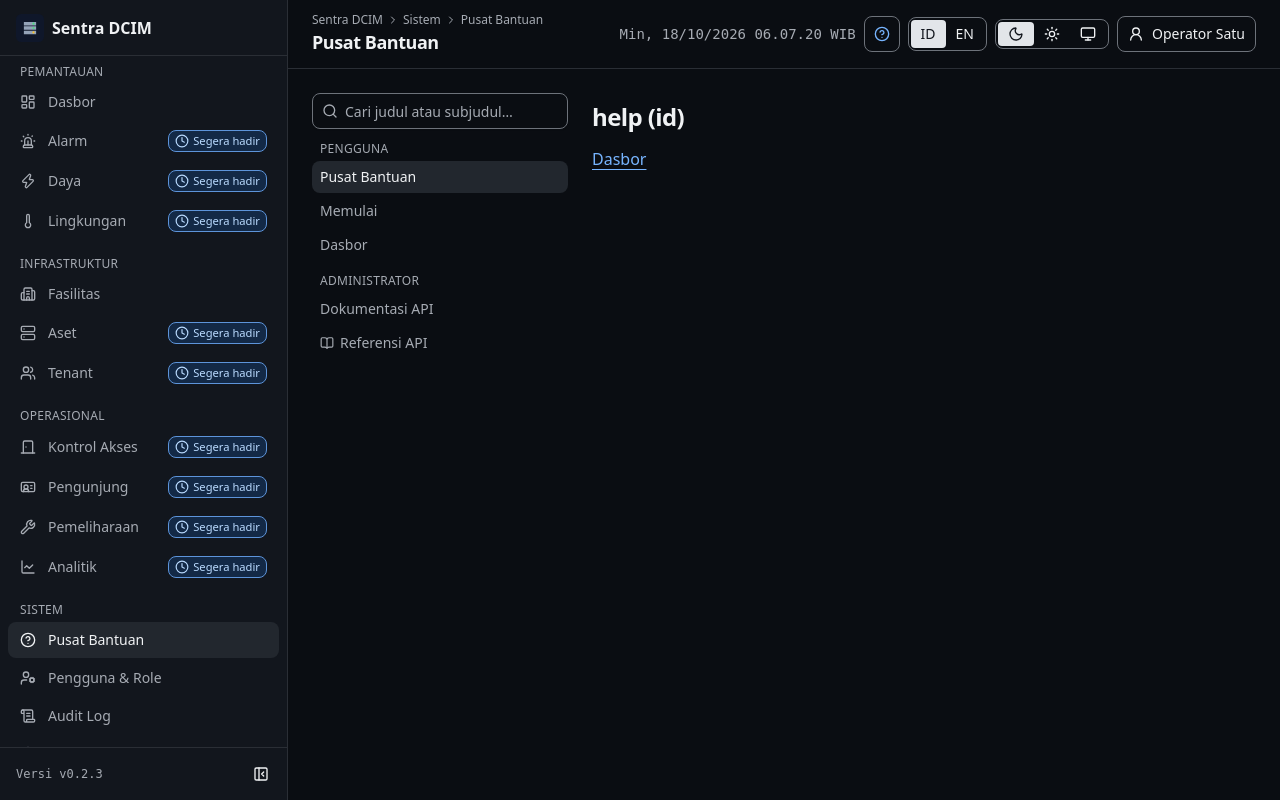
Scenario: Help Center › filters the list with search (title + headings)
The width and height of the screenshot is (1280, 800).
Expected: the element "Pengguna" is shown, [312,141,568,261]
Type "tema" into the search field with test id "help-search" at (440, 111), box [312,93,568,129]
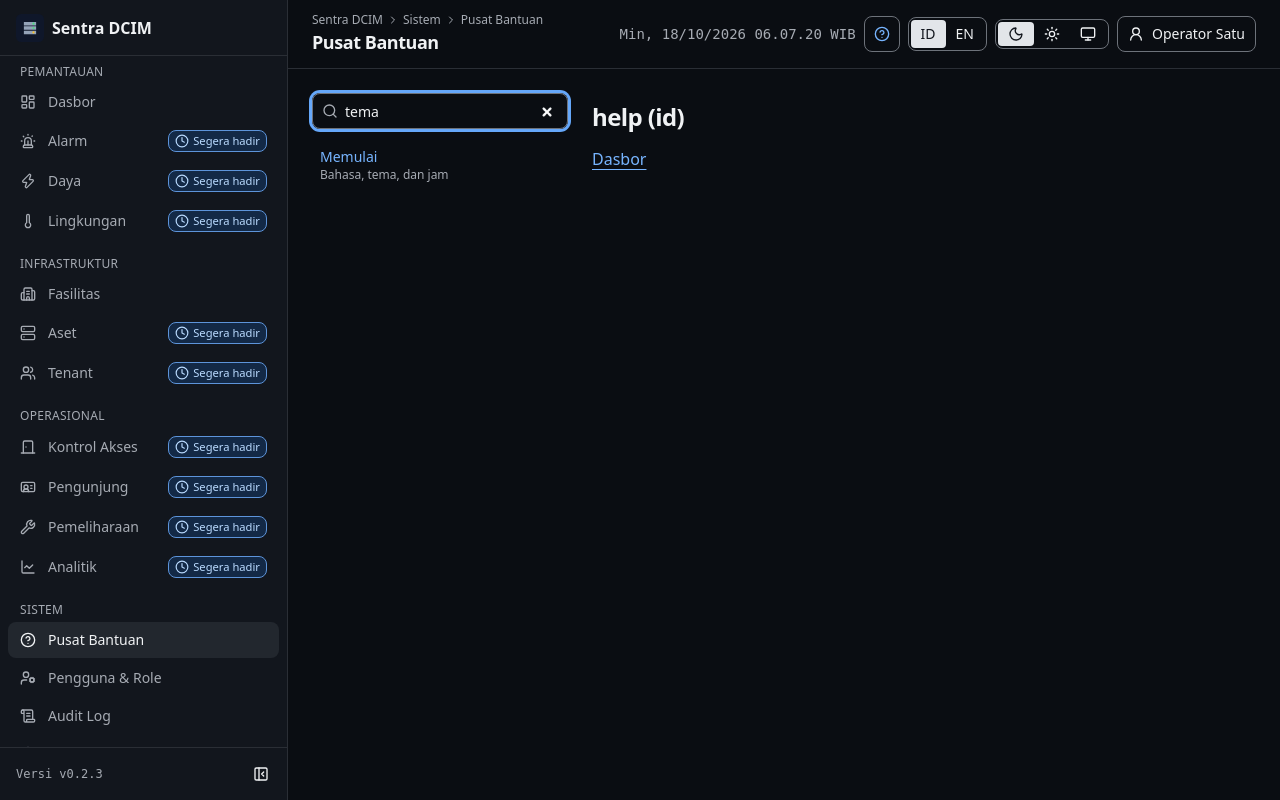
Expected: the list with test id "help-results" shows "Bahasa, tema, dan jam", [312,141,568,189]
Replace the text in the search field with test id "help-search" with "genset" at (440, 111), box [312,93,568,129]
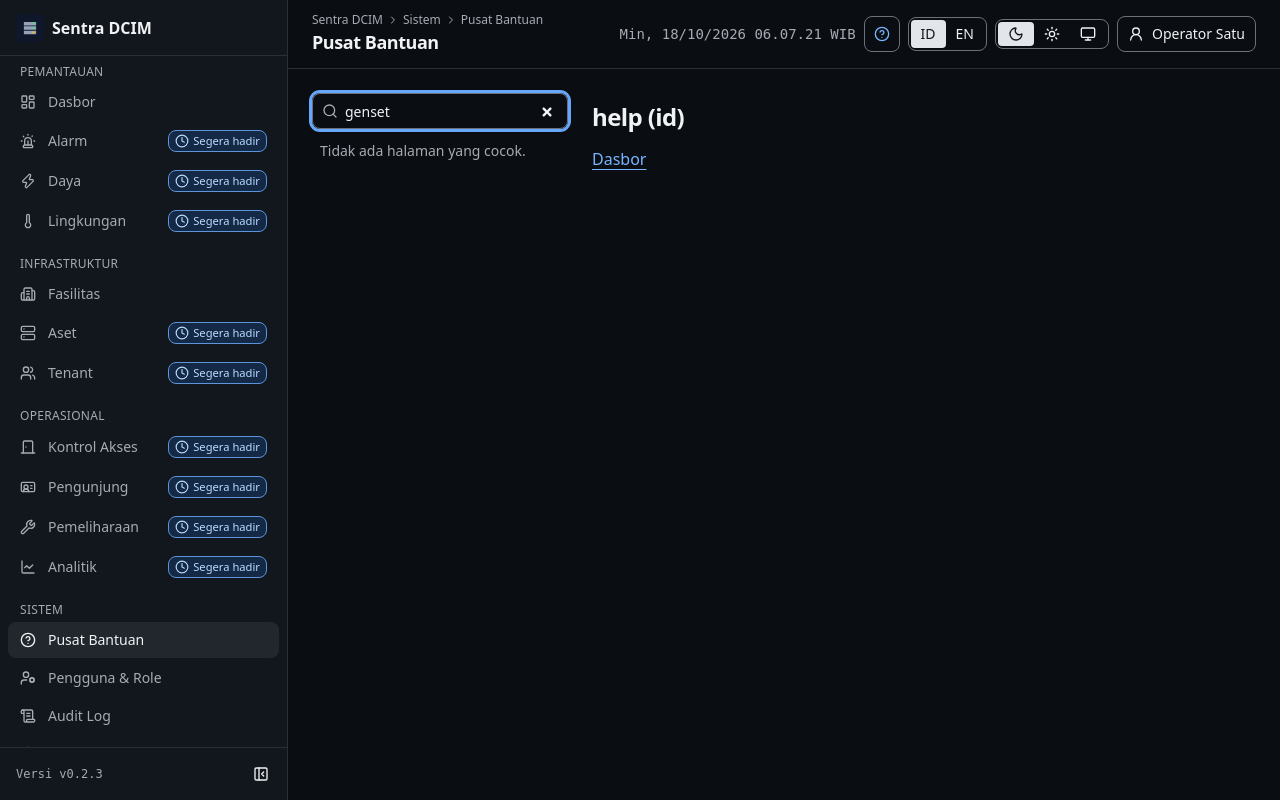
Expected: the list with test id "help-results" reads "Tidak ada halaman yang cocok.", [320,141,526,160]
